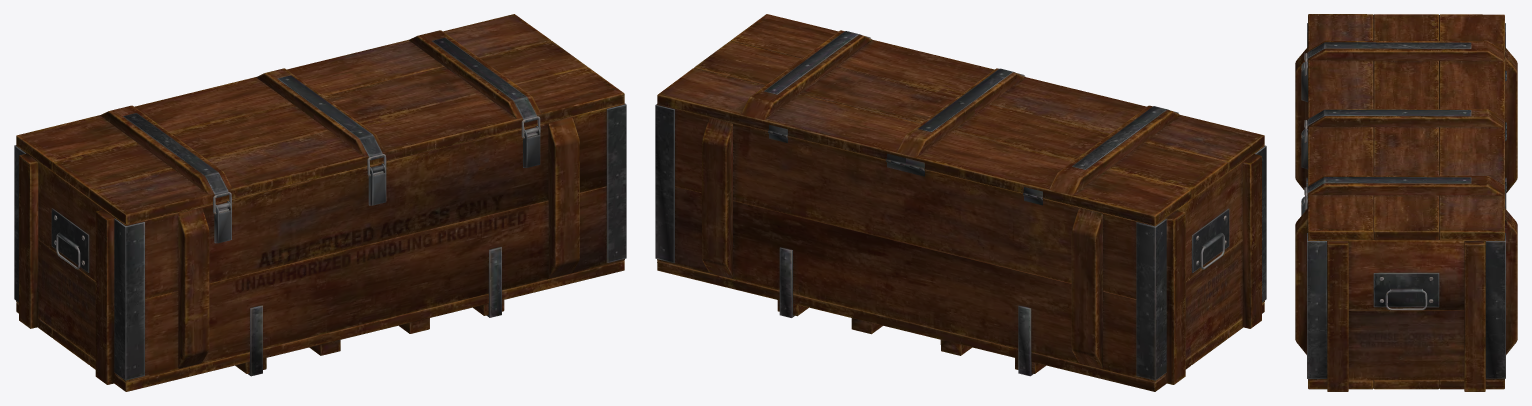
File: wooden_military_crate.glb
The picture shows the model from 3 angles, left to right: view 1: azimuth 30°, elevation 25°; view 2: azimuth 150°, elevation 25°; view 3: azimuth 270°, elevation 25°; orthographic projection. The views are drawn at different scales.
Parts seen in each view (by area): view 1: wooden_military_crate; view 2: wooden_military_crate; view 3: wooden_military_crate.
Boxes of the visible parts, left/top/right/bottom form: wooden_military_crate: left=14, top=14, right=626, bottom=391; wooden_military_crate: left=655, top=14, right=1266, bottom=391; wooden_military_crate: left=1295, top=14, right=1517, bottom=391.
Bounding box in the file's own units: 1.24 × 0.4647 × 0.5198.
Materials: 1 (1 with a texture image).
